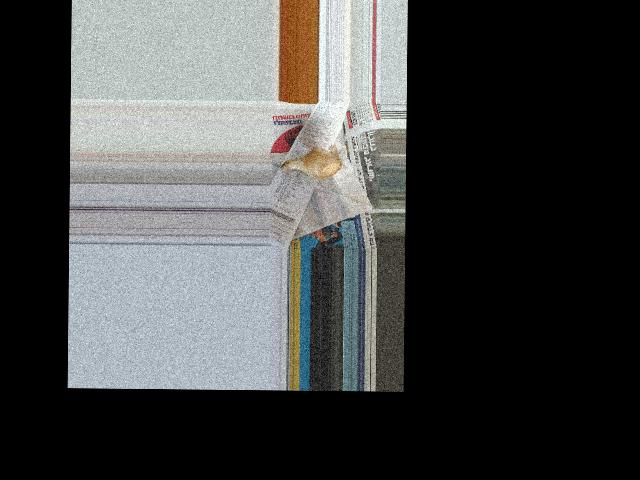onion: (295, 149, 339, 178)
